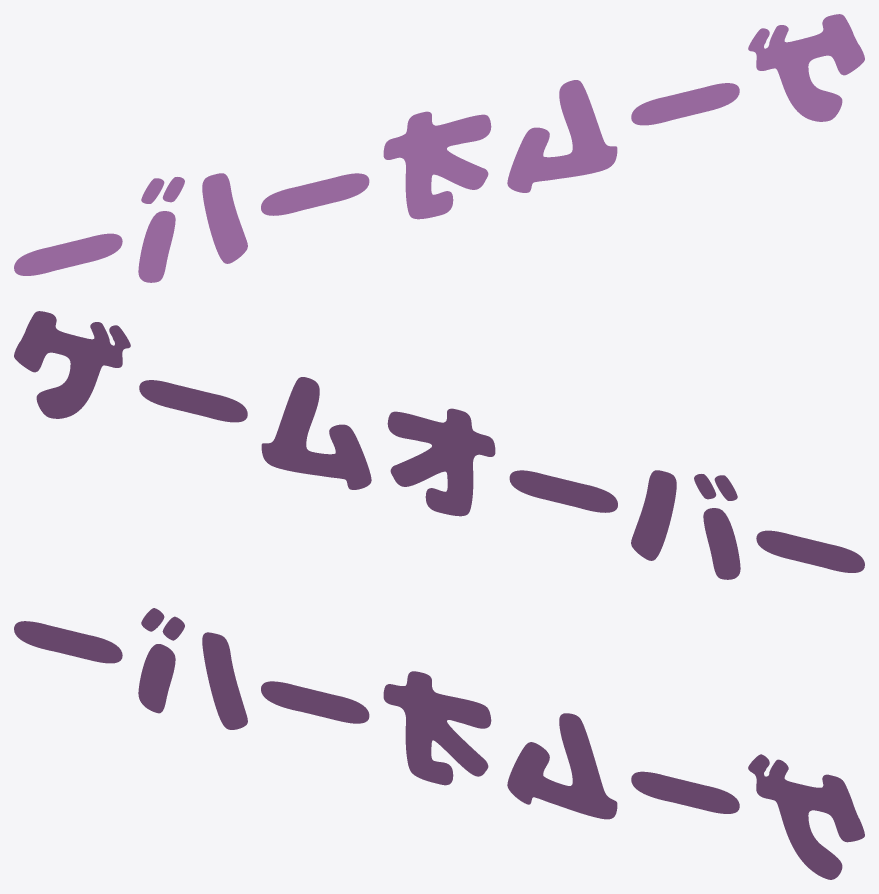
The model's file is gameover.obj.
3 views of the same model, one above another, from view 1: azimuth 30°, elevation 25°; view 2: azimuth 150°, elevation 25°; view 3: azimuth 330°, elevation 25° (orthographic).
Visible parts, largest first — view 1: テキスト; view 2: テキスト; view 3: テキスト.
Part boxes in pixels (<box>): テキスト: <box>14,14,864,282</box>; テキスト: <box>14,311,864,579</box>; テキスト: <box>14,608,864,879</box>.
Bounding box in the file's own units: 5.29 × 0.6475 × 0.
1 material, 1 textured.
